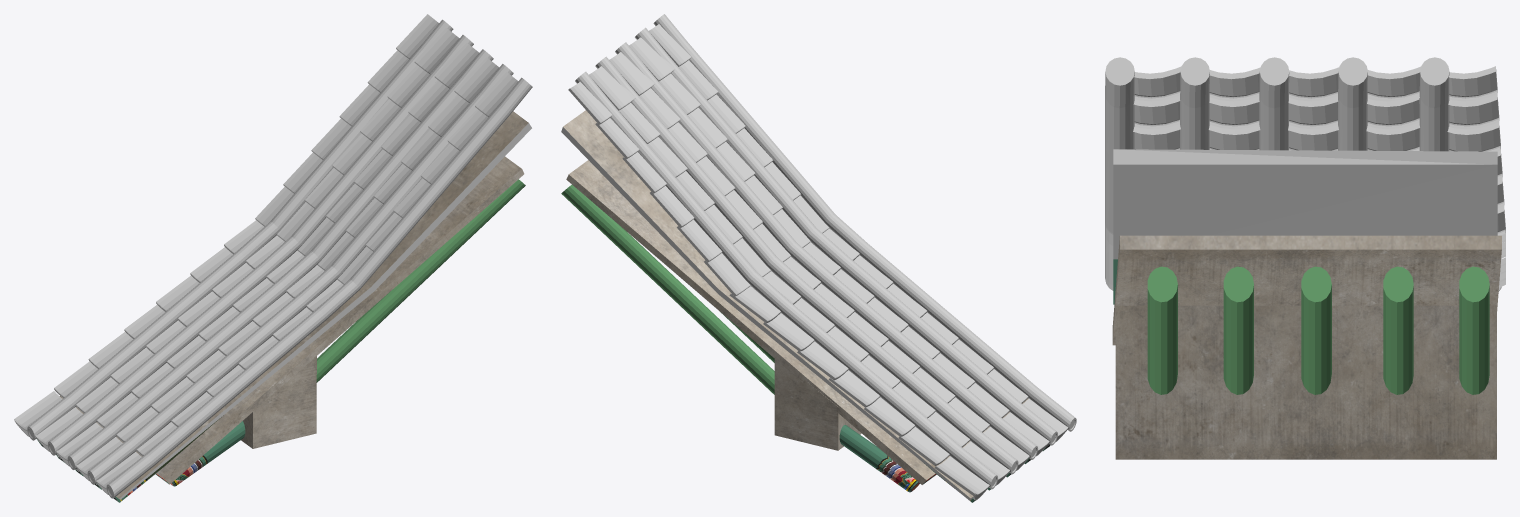
File: SM_Roof_10.fbx
The picture shows the model from 3 angles, left to right: view 1: azimuth 30°, elevation 25°; view 2: azimuth 150°, elevation 25°; view 3: azimuth 270°, elevation 25°; orthographic projection. The views are drawn at different scales.
Parts seen in each view (by area): view 1: SM_Roof_10; view 2: SM_Roof_10; view 3: SM_Roof_10.
Part boxes in pixels (<box>): SM_Roof_10: <box>14,14,532,502</box>; SM_Roof_10: <box>561,14,1076,502</box>; SM_Roof_10: <box>1105,57,1505,459</box>.
Bounding box in the file's own units: 653 × 268 × 487.
